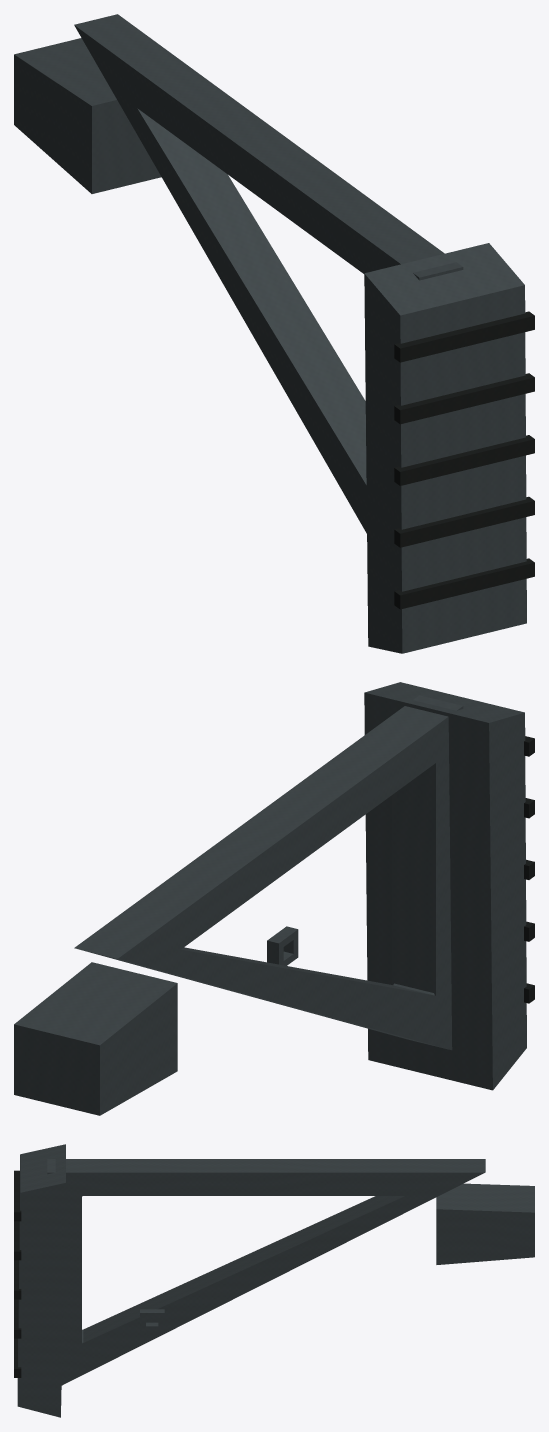
File: aksu_stock.glb
The picture shows the model from 3 angles, top to bottom: view 1: azimuth 30°, elevation 25°; view 2: azimuth 150°, elevation 25°; view 3: azimuth 270°, elevation 25°; orthographic projection. The views are drawn at different scales.
Parts seen in each view (by area): view 1: aksu_stock_triangular_frame, aksu_stock_triangular_frame.001, aksu_stock_pad_tread; view 2: aksu_stock_triangular_frame, aksu_stock_triangular_frame.001, aksu_stock_pad_tread; view 3: aksu_stock_triangular_frame, aksu_stock_triangular_frame.001, aksu_stock_pad_tread.
Part boxes in pixels (x1,y1,x2,y2): aksu_stock_triangular_frame: (15,15,524,650); aksu_stock_triangular_frame.001: (14,14,526,653); aksu_stock_pad_tread: (394,311,534,609); aksu_stock_triangular_frame: (15,683,526,1113); aksu_stock_triangular_frame.001: (14,682,526,1115); aksu_stock_pad_tread: (524,736,534,1003); aksu_stock_triangular_frame: (17,1145,533,1394); aksu_stock_triangular_frame.001: (17,1144,534,1417); aksu_stock_pad_tread: (14,1170,21,1377).
Size of the model in its own units: 0.0885 by 0.21 by 0.422.
Materials: 2 (2 with a texture image).
